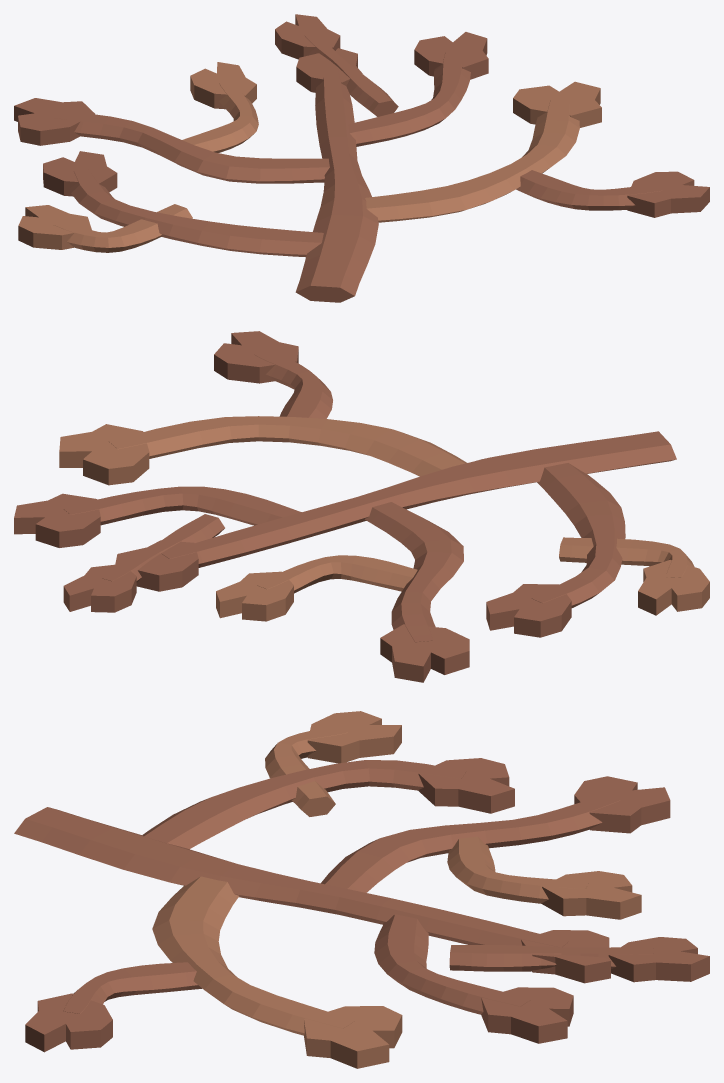
Rendered from native-copper-dendrite.glb.
The picture shows the model from 3 angles, top to bottom: view 1: azimuth 30°, elevation 25°; view 2: azimuth 150°, elevation 25°; view 3: azimuth 270°, elevation 25°; orthographic projection. The views are drawn at different scales.
Visible parts, largest first — view 1: original-planar-coalescent-copper-dendritic-sheets-with-uneq; view 2: original-planar-coalescent-copper-dendritic-sheets-with-uneq; view 3: original-planar-coalescent-copper-dendritic-sheets-with-uneq.
Part boxes in pixels (x1,y1,x2,y2): original-planar-coalescent-copper-dendritic-sheets-with-uneq: (14, 14, 709, 302); original-planar-coalescent-copper-dendritic-sheets-with-uneq: (14, 331, 709, 682); original-planar-coalescent-copper-dendritic-sheets-with-uneq: (14, 711, 709, 1068).
Bounding box in the file's own units: 0.15 × 0.00475 × 0.131.
